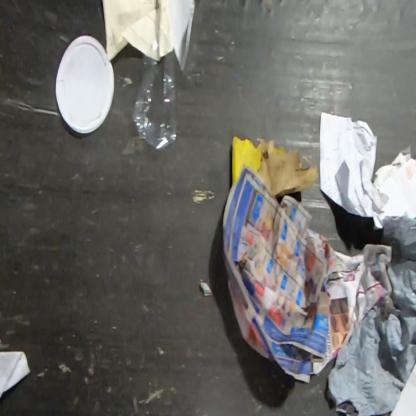cardboard: (231, 134, 318, 200)
rigid_plastic: (54, 34, 116, 135)
soft_plastic: (326, 215, 415, 415), (131, 28, 178, 154)
